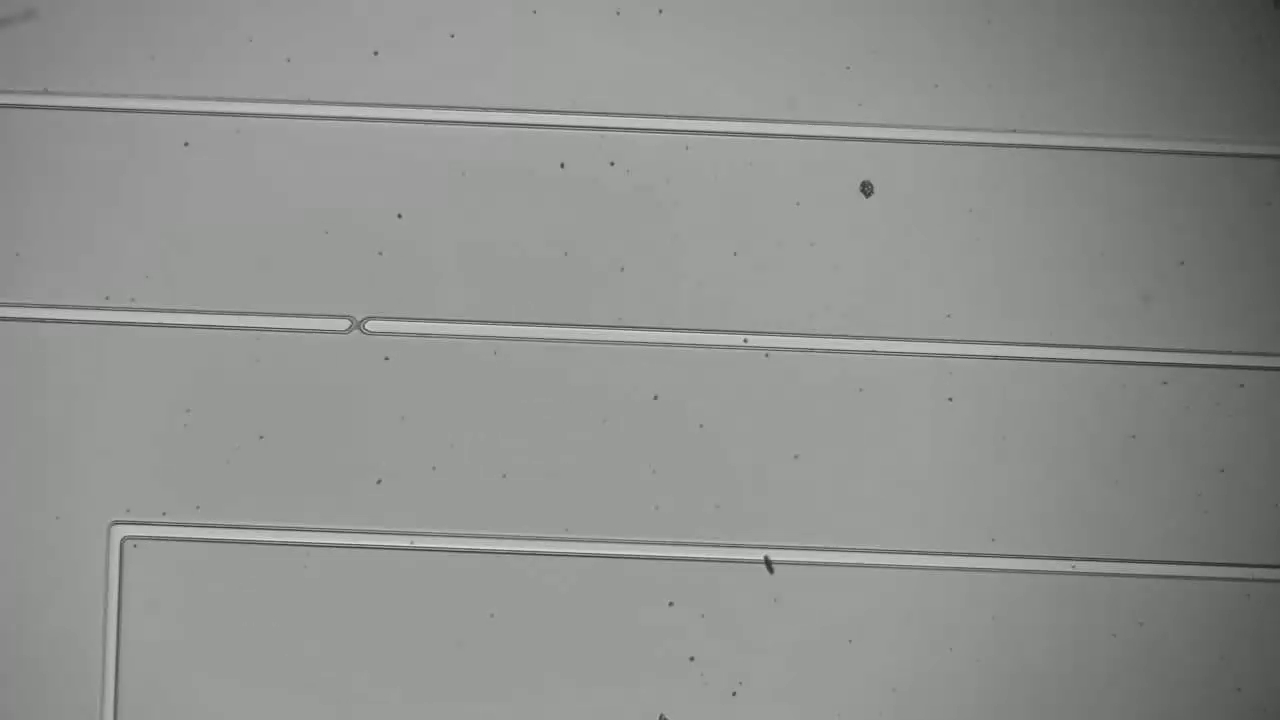open: (331, 303, 389, 344)
stains_enbedded: (756, 536, 788, 586)
